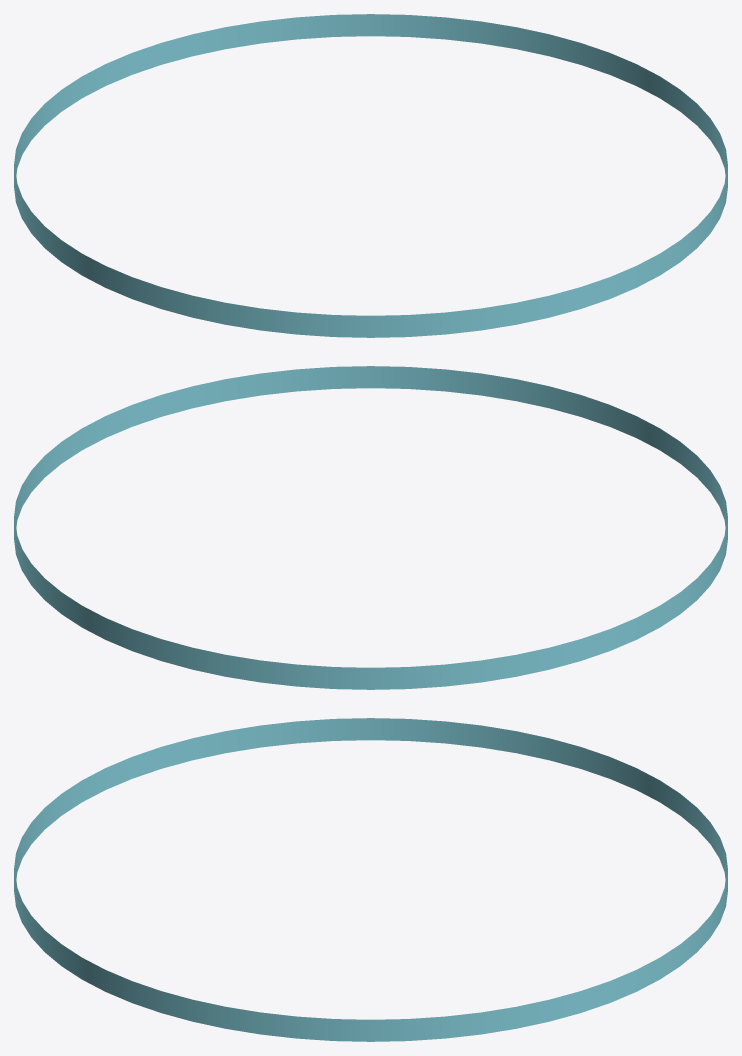
Rendered from Neon_Ring_01.FBX.
3 views of the same model, one above another, from view 1: azimuth 30°, elevation 25°; view 2: azimuth 150°, elevation 25°; view 3: azimuth 270°, elevation 25° (orthographic).
Parts seen in each view (by area): view 1: Neon_Ring_01; view 2: Neon_Ring_01; view 3: Neon_Ring_01.
Part boxes in pixels (x1,y1,x2,y2): Neon_Ring_01: [14, 14, 727, 337]; Neon_Ring_01: [14, 366, 727, 689]; Neon_Ring_01: [14, 718, 727, 1041].
Size of the model in its own units: 2.05 by 0.07 by 2.05.
